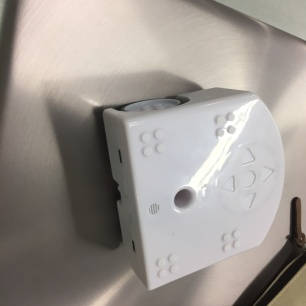thymio: (91, 83, 286, 299)
